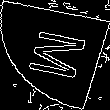M_E: (18, 26, 92, 84)
